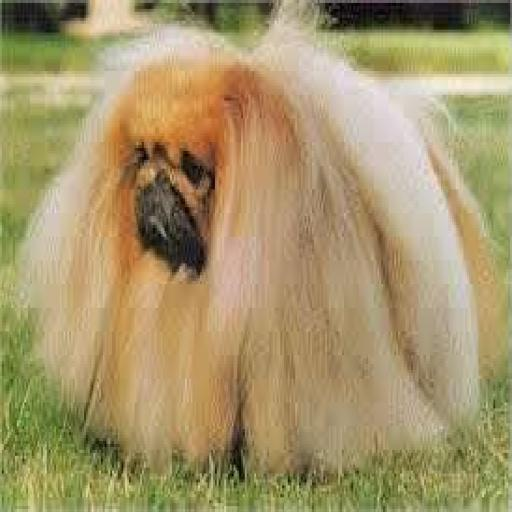dog_face: (87, 55, 281, 294)
